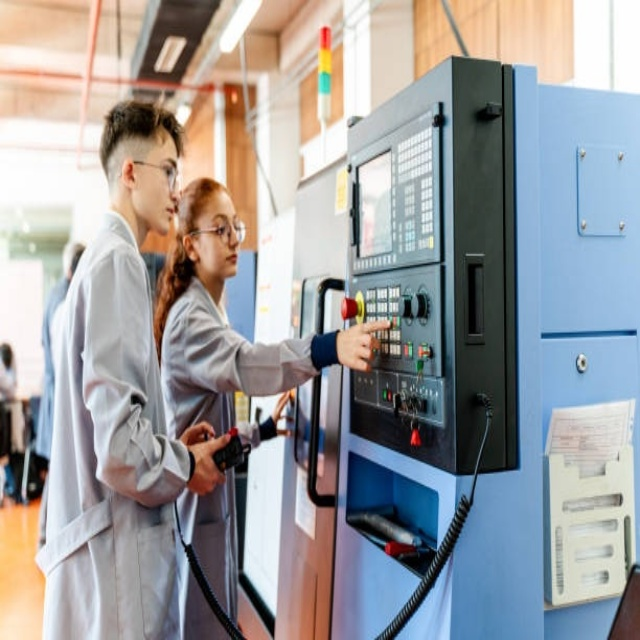Gafas: (128, 160, 181, 191), (189, 220, 247, 246)
Sin_guantes: (182, 424, 237, 494), (335, 317, 392, 374)
Sin_mascara: (153, 201, 178, 235), (215, 246, 241, 275)
